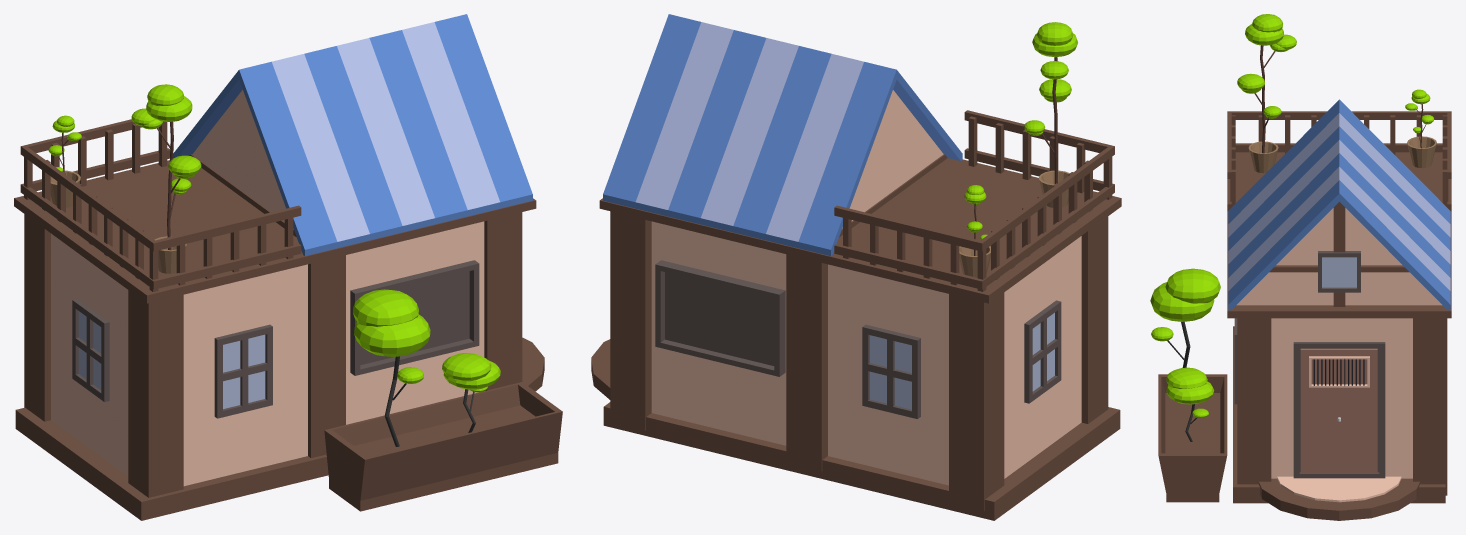
Rendered from NomalHouse2_A.fbx.
3 views of the same model, side by side, from view 1: azimuth 30°, elevation 25°; view 2: azimuth 150°, elevation 25°; view 3: azimuth 270°, elevation 25° (orthographic). The views are drawn at different scales.
Visible parts, largest first — view 1: Cube.154, Cube.153, Cube.163, Cube.166, Cube.169, Cube.184, Cube.164, Cube.162, Cube.158, Cube.168, Cube.160, Cylinder.051 (+11 smaller); view 2: Cube.154, Cube.153, Cube.166, Cube.184, Cube.165, Cube.168, Cube.157, Cube.161, Cube.169, Cube.160, Cube.178, Cube.174 (+8 smaller); view 3: Cube.154, Cube.153, Cube.156, Cube.159, Cube.163, Cube.157, Cube.158, Cube.166, Cylinder.049, Cylinder.051, Cube.155, Cylinder.050 (+17 smaller).
Part boxes in pixels (left/top/right/bottom): Cube.154: left=173, top=14, right=532, bottom=256; Cube.153: left=51, top=221, right=484, bottom=486; Cube.163: left=324, top=382, right=562, bottom=511; Cube.166: left=14, top=160, right=536, bottom=303; Cube.169: left=128, top=290, right=183, bottom=497; Cube.184: left=15, top=407, right=328, bottom=520; Cube.164: left=350, top=260, right=479, bottom=375; Cube.162: left=308, top=255, right=345, bottom=458; Cube.158: left=484, top=212, right=522, bottom=390; Cube.168: left=24, top=214, right=50, bottom=421; Cube.160: left=192, top=90, right=285, bottom=221; Cylinder.051: left=353, top=289, right=430, bottom=446; Cube.154: left=603, top=14, right=962, bottom=256; Cube.153: left=651, top=221, right=1081, bottom=485; Cube.166: left=599, top=158, right=1121, bottom=303; Cube.184: left=603, top=402, right=1120, bottom=520; Cube.165: left=655, top=260, right=785, bottom=376; Cube.168: left=949, top=292, right=1004, bottom=511; Cube.157: left=610, top=211, right=651, bottom=430; Cube.161: left=786, top=254, right=827, bottom=471; Cube.169: left=1081, top=216, right=1108, bottom=423; Cube.160: left=842, top=90, right=943, bottom=228; Cube.178: left=862, top=324, right=920, bottom=418; Cube.174: left=834, top=110, right=1114, bottom=251; Cube.154: left=1228, top=99, right=1450, bottom=310; Cube.153: left=1271, top=318, right=1412, bottom=478; Cube.156: left=1300, top=348, right=1377, bottom=472; Cube.159: left=1236, top=208, right=1442, bottom=305; Cube.163: left=1158, top=374, right=1227, bottom=502; Cube.157: left=1413, top=318, right=1447, bottom=495; Cube.158: left=1237, top=318, right=1271, bottom=484; Cube.166: left=1227, top=152, right=1451, bottom=318; Cylinder.049: left=1258, top=478, right=1419, bottom=520; Cylinder.051: left=1150, top=268, right=1220, bottom=367; Cube.155: left=1293, top=342, right=1385, bottom=478; Cylinder.050: left=1277, top=476, right=1401, bottom=502.
Bounding box in the file's own units: 3310 × 2880 × 2255.
